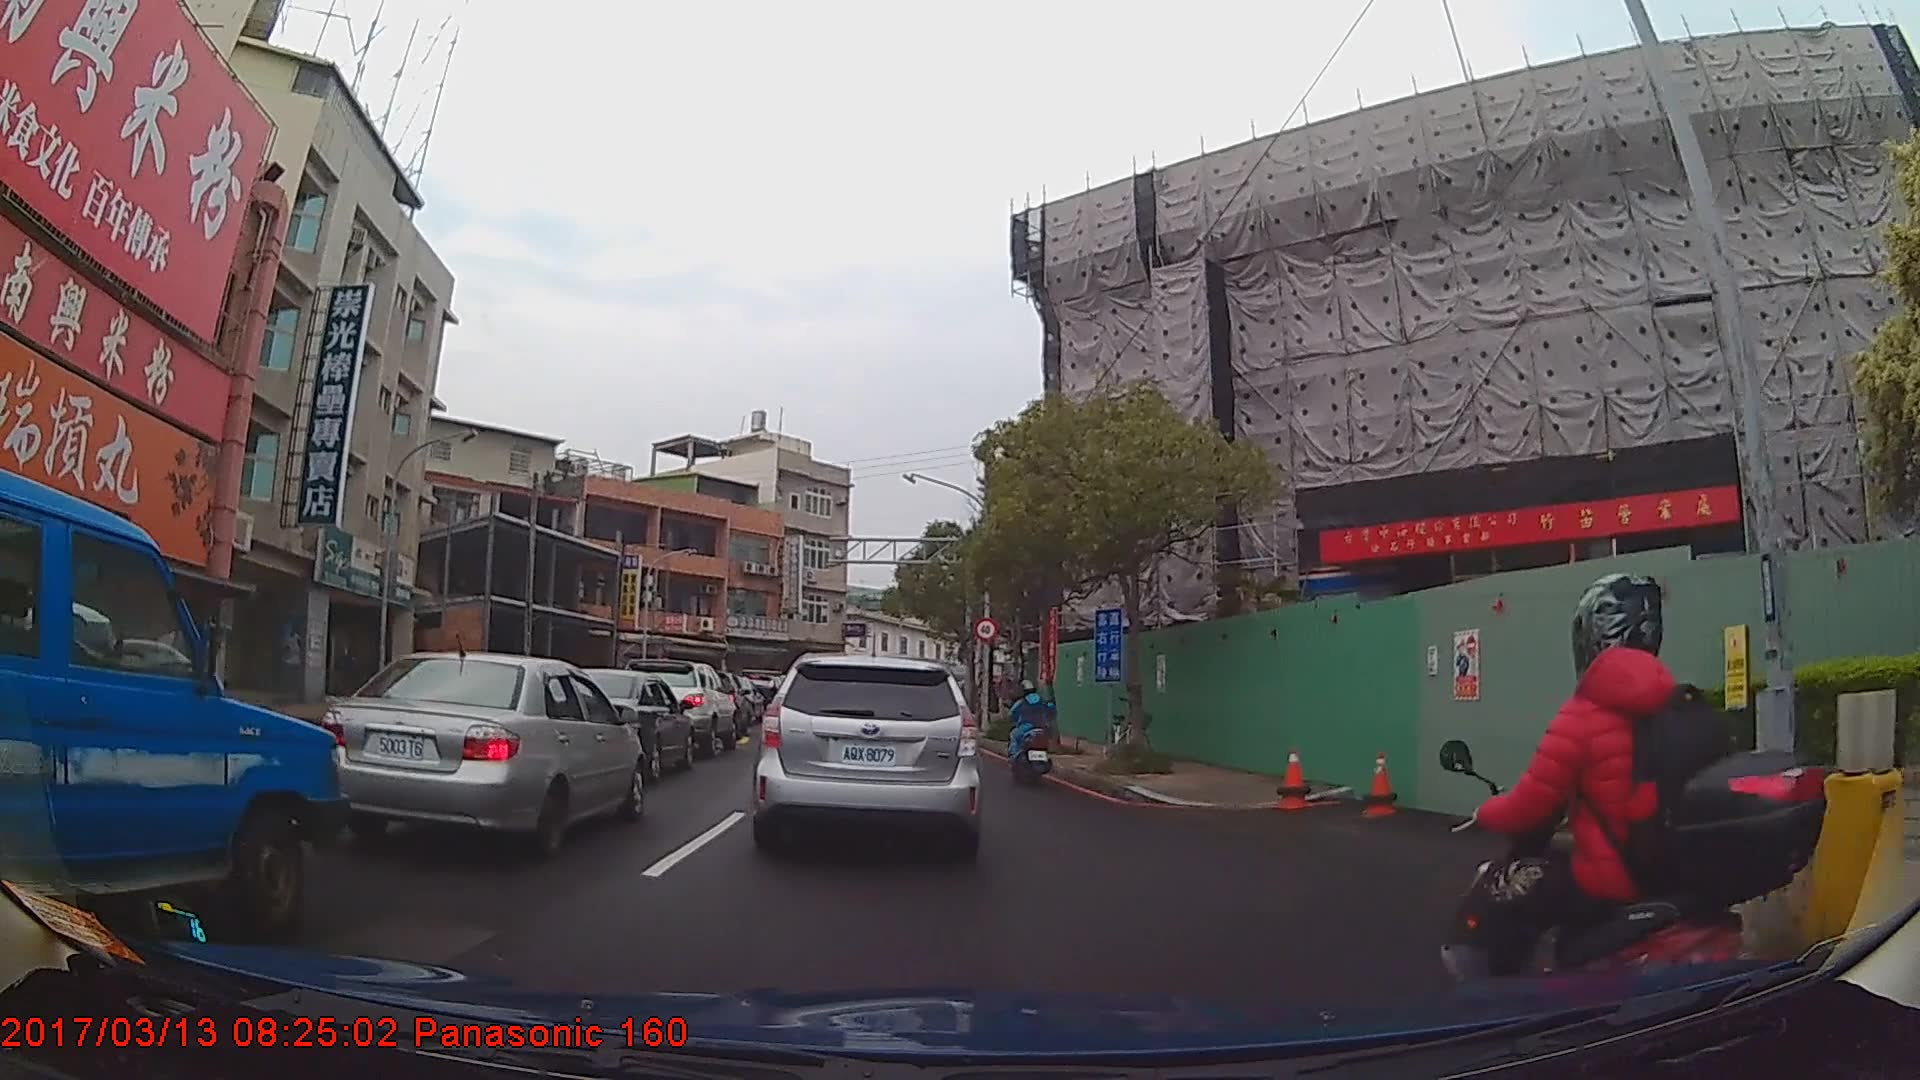rider: (1437, 567, 1847, 1076), (1005, 683, 1057, 789)
vehicle: (0, 471, 334, 959), (307, 651, 644, 864), (754, 652, 983, 856), (541, 667, 694, 780), (617, 656, 736, 760)
